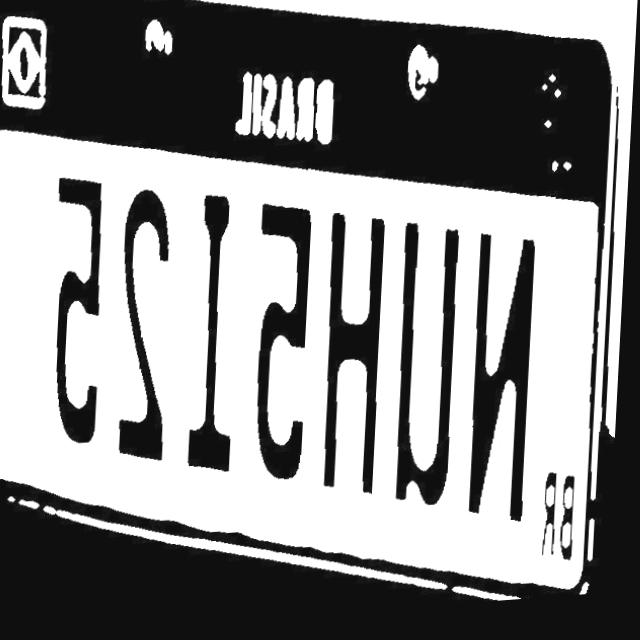2: (103, 162, 188, 454)
5: (243, 178, 324, 471), (39, 154, 113, 430)
h: (316, 193, 401, 487)
i: (179, 171, 253, 464)
n: (462, 217, 548, 532)
u: (389, 202, 475, 510)
